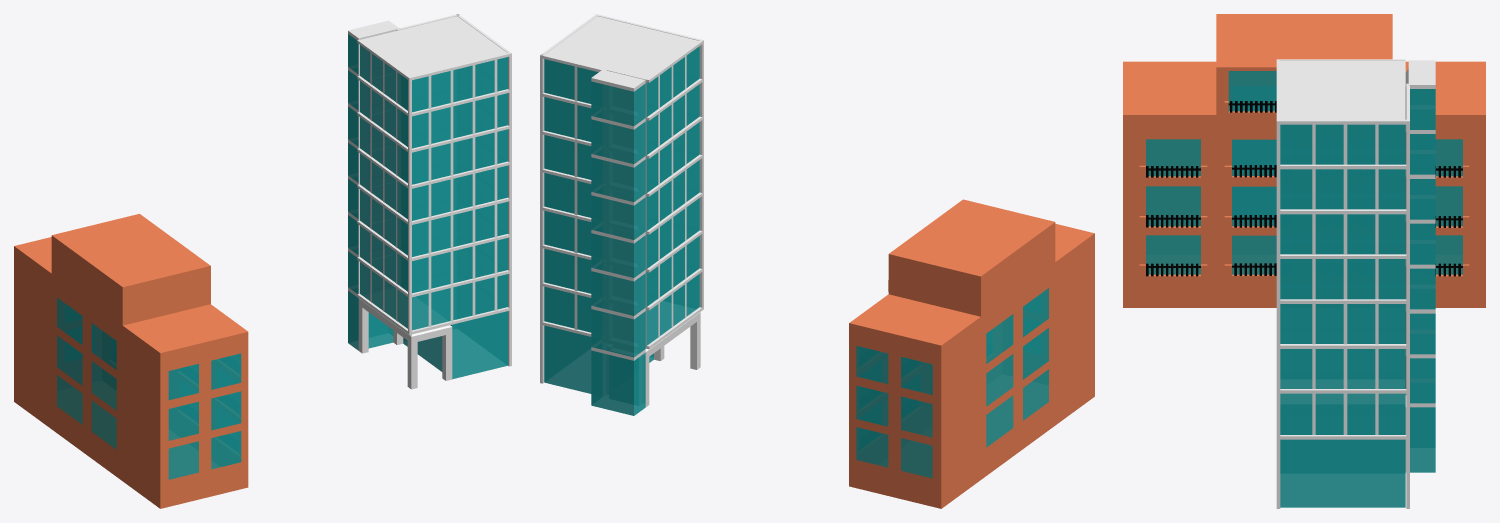
The model's file is Minato_Bildeing.fbx.
3 views of the same model, side by side, from view 1: azimuth 30°, elevation 25°; view 2: azimuth 150°, elevation 25°; view 3: azimuth 270°, elevation 25° (orthographic). The views are drawn at different scales.
Parts seen in each view (by area): view 1: Cube.025, Cube.024; view 2: Cube.024, Cube.025; view 3: Cube.025, Cube.024.
Part boxes in pixels (box(x1,y1,x2,y2)): Cube.025: box(348, 14, 511, 389); Cube.024: box(14, 214, 248, 508); Cube.024: box(849, 199, 1094, 508); Cube.025: box(540, 14, 703, 415); Cube.025: box(1276, 59, 1435, 508); Cube.024: box(1123, 14, 1485, 307).
Bounding box in the file's own units: 158 × 114 × 96.76.
